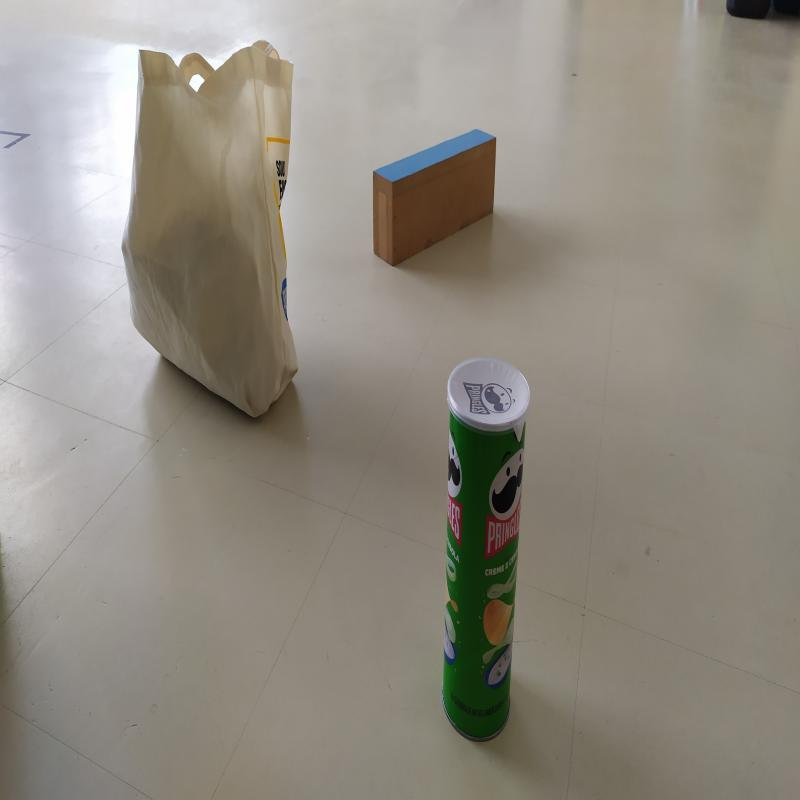Bag: (113, 42, 294, 423)
Pringles: (450, 352, 530, 742)
